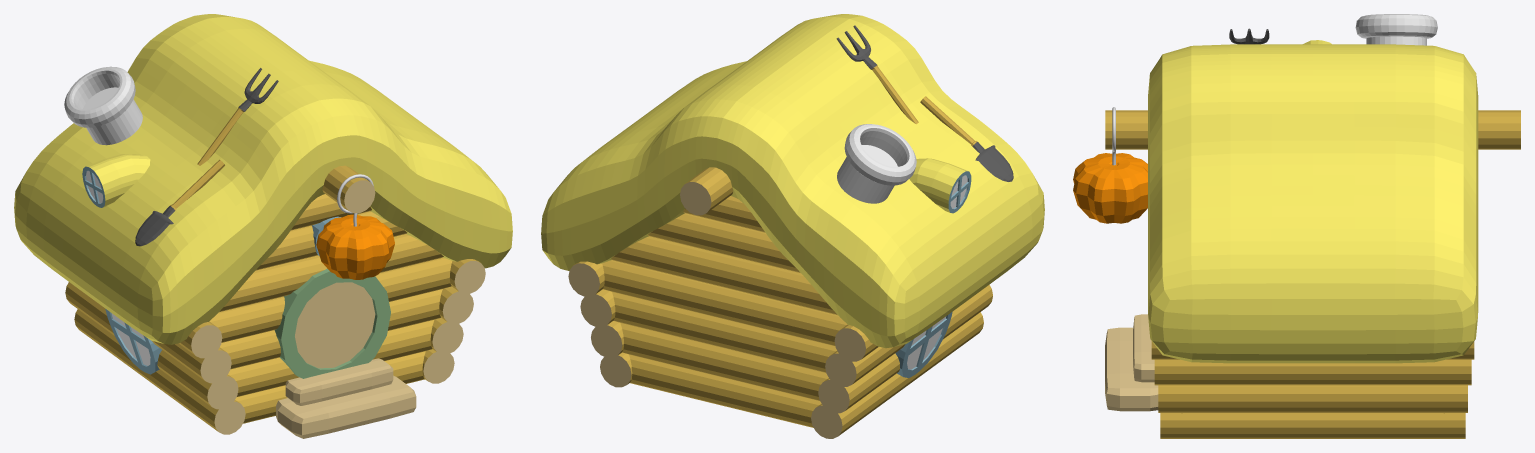
File: kopatich_house.glb
The picture shows the model from 3 angles, left to right: view 1: azimuth 30°, elevation 25°; view 2: azimuth 150°, elevation 25°; view 3: azimuth 270°, elevation 25°; orthographic projection. The views are drawn at different scales.
Visible parts, largest first — view 1: Cube, Cylinder.012, Cube.001, Cylinder.013, Cylinder.007, Cylinder, Cylinder.014, Cylinder.008, Cylinder.002, Cylinder.003, Cylinder.005, Cube.002 (+10 smaller); view 2: Cube, Cylinder.007, Cylinder.008, Cylinder.005, Cylinder.003, Cylinder.001, Cylinder.013, Cylinder, Cylinder.002, Cylinder.009, Cylinder.004, Cube.004 (+6 smaller); view 3: Cube, Cylinder.002, Cylinder, Cylinder.004, Cylinder.014, Cylinder.011, Cube.001, Cylinder.013, Cube.002.
Boxes of the visible parts, left/top/right/bottom form: Cube: left=14, top=14, right=512, bottom=344; Cylinder.012: left=274, top=268, right=390, bottom=378; Cube.001: left=276, top=375, right=416, bottom=438; Cylinder.013: left=64, top=66, right=142, bottom=145; Cylinder.007: left=209, top=257, right=452, bottom=342; Cylinder: left=74, top=309, right=454, bottom=434; Cylinder.014: left=316, top=214, right=394, bottom=279; Cylinder.008: left=219, top=234, right=443, bottom=312; Cylinder.002: left=65, top=282, right=463, bottom=409; Cylinder.003: left=228, top=320, right=434, bottom=396; Cylinder.005: left=220, top=289, right=442, bottom=369; Cube.002: left=285, top=358, right=393, bottom=405; Cube: left=541, top=14, right=1044, bottom=348; Cylinder.007: left=602, top=260, right=847, bottom=345; Cylinder.008: left=611, top=236, right=837, bottom=315; Cylinder.005: left=612, top=292, right=836, bottom=372; Cylinder.003: left=620, top=323, right=828, bottom=400; Cylinder.001: left=629, top=354, right=821, bottom=427; Cylinder.013: left=837, top=124, right=916, bottom=203; Cylinder: left=600, top=312, right=983, bottom=438; Cylinder.002: left=591, top=284, right=992, bottom=413; Cylinder.009: left=647, top=213, right=800, bottom=272; Cylinder.004: left=580, top=289, right=905, bottom=386; Cube.004: left=909, top=158, right=971, bottom=213; Cube: left=1148, top=44, right=1478, bottom=363; Cylinder.002: left=1158, top=385, right=1467, bottom=412; Cylinder: left=1160, top=413, right=1465, bottom=438; Cylinder.004: left=1154, top=359, right=1471, bottom=385; Cylinder.014: left=1073, top=153, right=1147, bottom=223; Cylinder.011: left=1105, top=110, right=1520, bottom=149; Cube.001: left=1105, top=327, right=1158, bottom=411; Cylinder.013: left=1355, top=14, right=1437, bottom=45; Cube.002: left=1133, top=314, right=1154, bottom=382.
Size of the model in its own units: 2.56 by 2.09 by 2.5.
